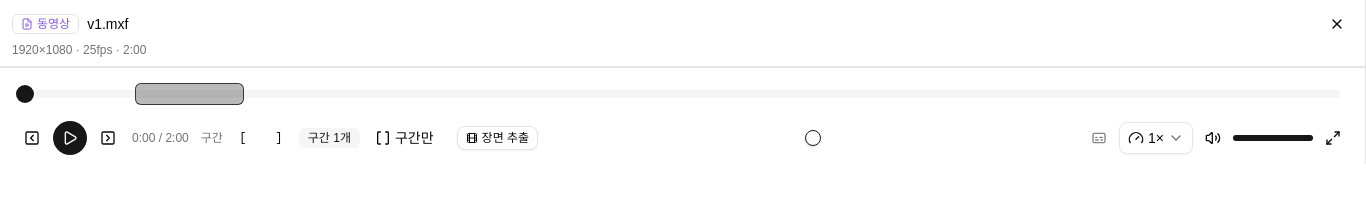
Test: player area controls never take focus › T-ui-nofocus-04 [Business rule] range bars take clicks, right-click selection and track drags without taking focus
Later steps or results of the test are not shown.
Click the button named "구간 1" at (189, 94), box x1=135 y1=83 x2=244 y2=105
Right-click the button named "구간 1" at (189, 94), box x1=135 y1=83 x2=244 y2=105
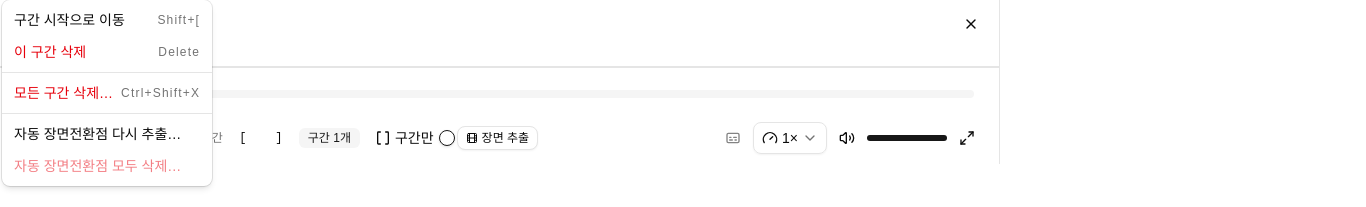
Press Escape in the menu, box x1=2 y1=0 x2=212 y2=186
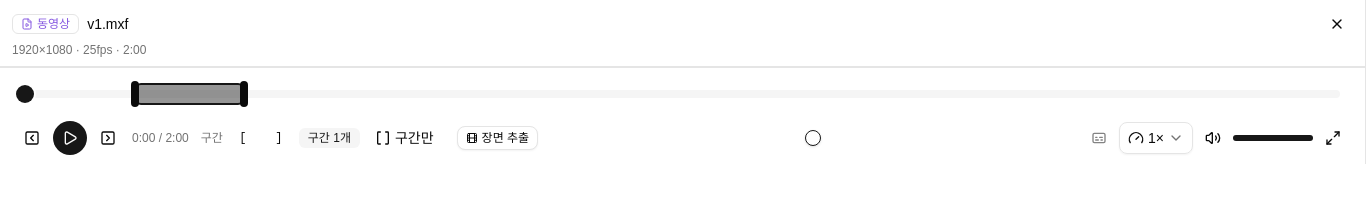
Now the menu is gone
